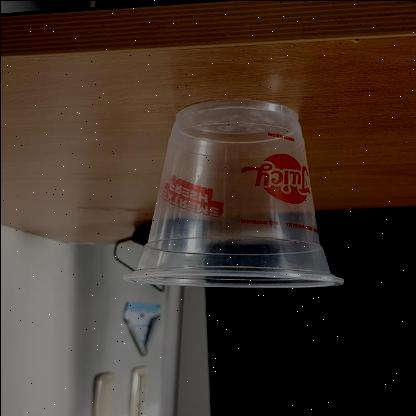Others: (121, 96, 346, 290)
